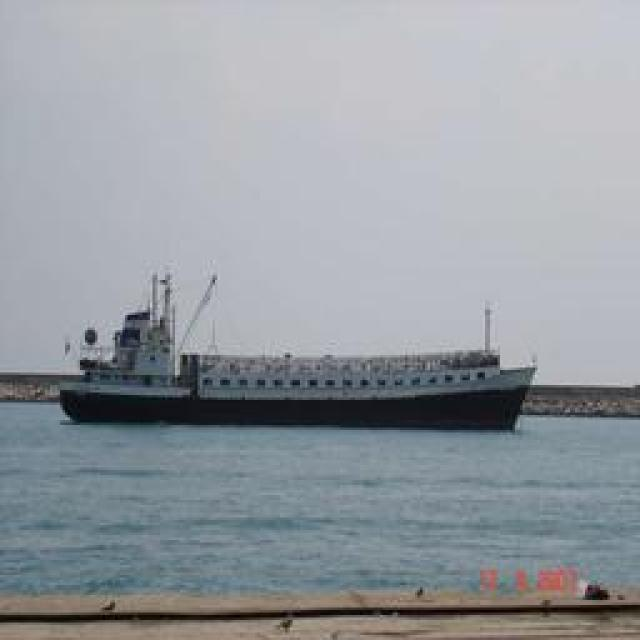ship2: (58, 242, 537, 432)
